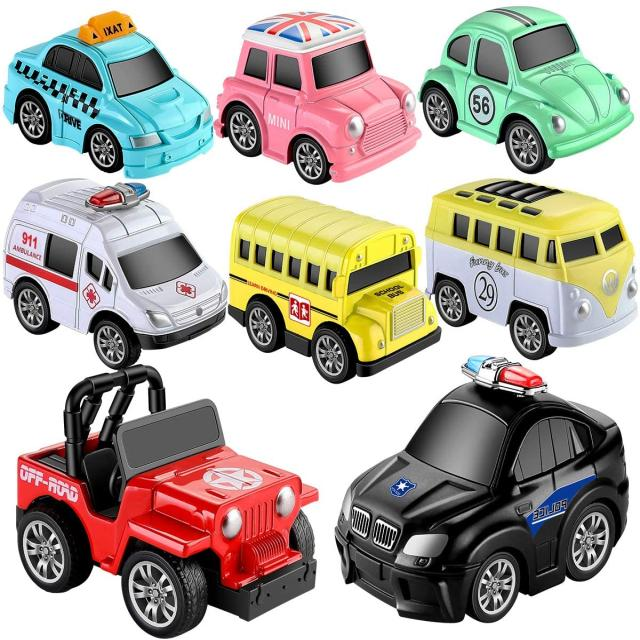Car: (15, 364, 319, 638), (334, 354, 629, 624), (2, 177, 228, 370), (227, 195, 442, 384), (424, 178, 638, 360), (417, 5, 634, 174), (213, 10, 421, 185), (2, 10, 214, 179)
